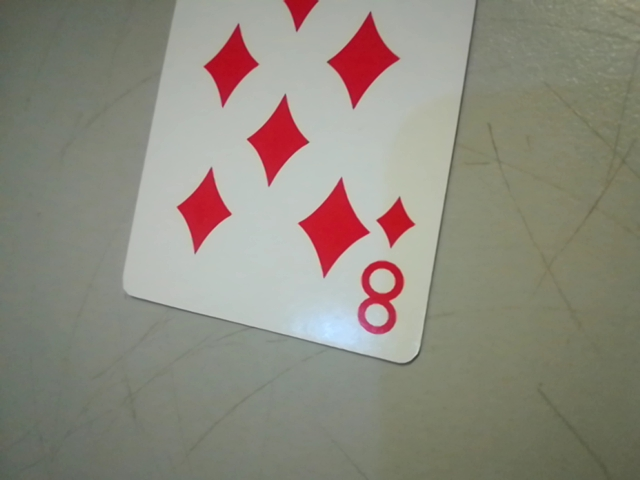fk 8: (353, 188, 422, 349)
